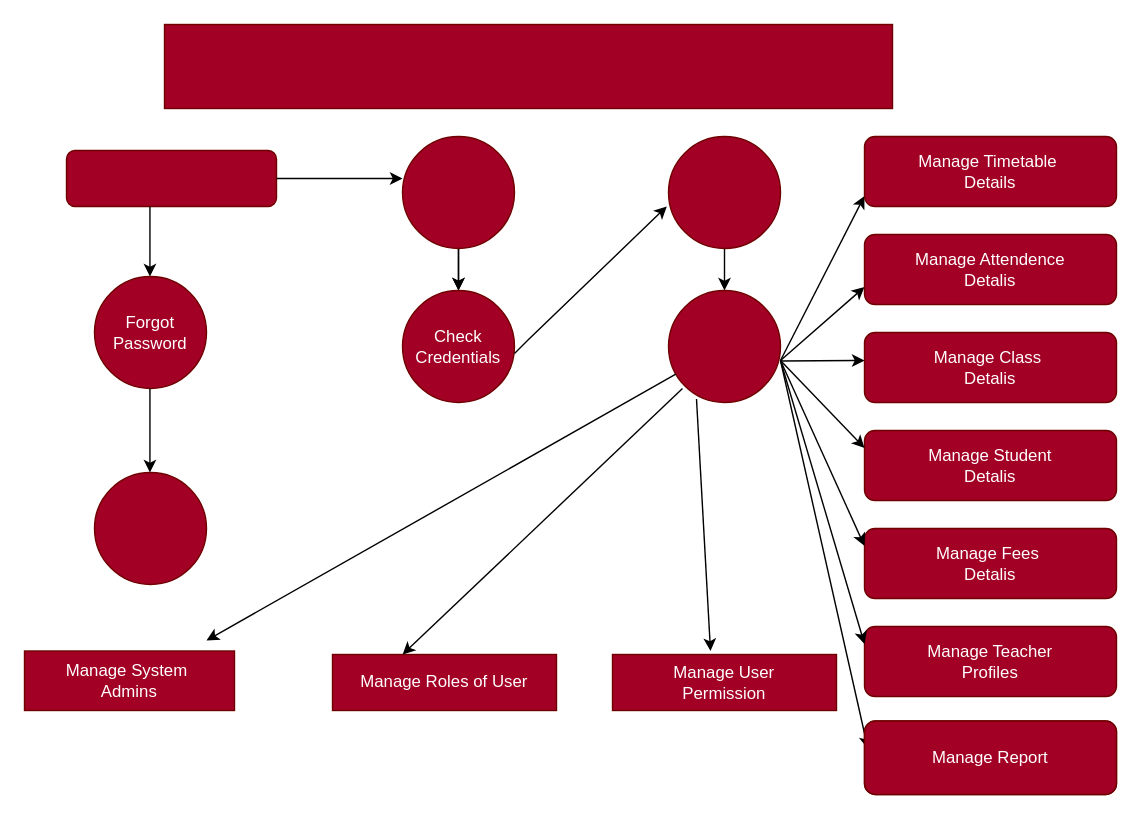
The diagram is 1141 pixels wide and 819 high, and some of its shapes have lost their labels. Each missing label, with the centre of its shape:
Admin: pixel 170 177
Check Roles of Access: pixel 723 191
Login to System: pixel 457 191
Manage Modules: pixel 723 345
Send Email to User: pixel 149 527
Student Information System: pixel 527 65
